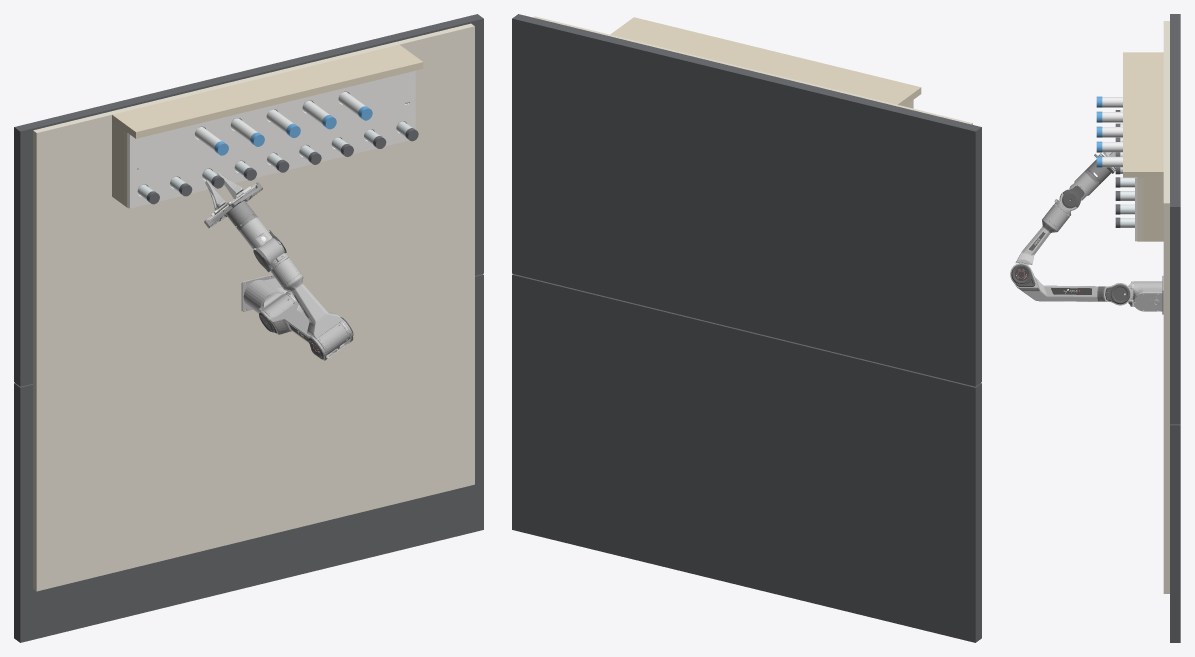
File: shelf.glb
3 views of the same model, side by side, from view 1: azimuth 30°, elevation 25°; view 2: azimuth 150°, elevation 25°; view 3: azimuth 270°, elevation 25° (orthographic). The views are drawn at different scales.
Visible parts, largest first — view 1: arm-plate, table--0.68, nest-plate-6, table-0.00, fence-5, piper-link3-118, piper-link2-103, piper-arm_base-0, leg-1-1; view 2: table-0.00, table--0.68, fence-5, arm-plate; view 3: fence-5, table-0.00, arm-plate, table--0.68, leg-4-4, piper-link2-103, piper-arm_base-0, piper-link3-118, shelf-top-0, piper-link2-100, piper-link5-143, piper-link2-102 (+3 smaller).
Part boxes in pixels (bbox=[...]): arm-plate: bbox=[33, 23, 474, 591]; table--0.68: bbox=[14, 274, 483, 642]; nest-plate-6: bbox=[128, 70, 415, 208]; table-0.00: bbox=[14, 14, 483, 386]; fence-5: bbox=[112, 44, 423, 138]; piper-link3-118: bbox=[282, 273, 342, 338]; piper-link2-103: bbox=[259, 291, 353, 360]; piper-arm_base-0: bbox=[241, 274, 287, 313]; leg-1-1: bbox=[112, 121, 123, 204]; table-0.00: bbox=[512, 14, 981, 386]; table--0.68: bbox=[512, 274, 981, 642]; fence-5: bbox=[610, 17, 921, 106]; arm-plate: bbox=[533, 16, 972, 124]; fence-5: bbox=[1123, 52, 1163, 177]; table-0.00: bbox=[1170, 14, 1180, 424]; arm-plate: bbox=[1163, 21, 1169, 593]; table--0.68: bbox=[1170, 424, 1180, 642]; leg-4-4: bbox=[1143, 177, 1163, 241]; piper-link2-103: bbox=[1010, 263, 1131, 305]; piper-arm_base-0: bbox=[1133, 275, 1163, 314]; piper-link3-118: bbox=[1015, 217, 1059, 264]; shelf-top-0: bbox=[1137, 177, 1143, 241]; piper-link2-100: bbox=[1105, 284, 1130, 304]; piper-link5-143: bbox=[1062, 185, 1084, 208]; piper-link2-102: bbox=[1011, 264, 1035, 286].
Size of the model in its own units: 1.29 by 1.36 by 0.4819.
